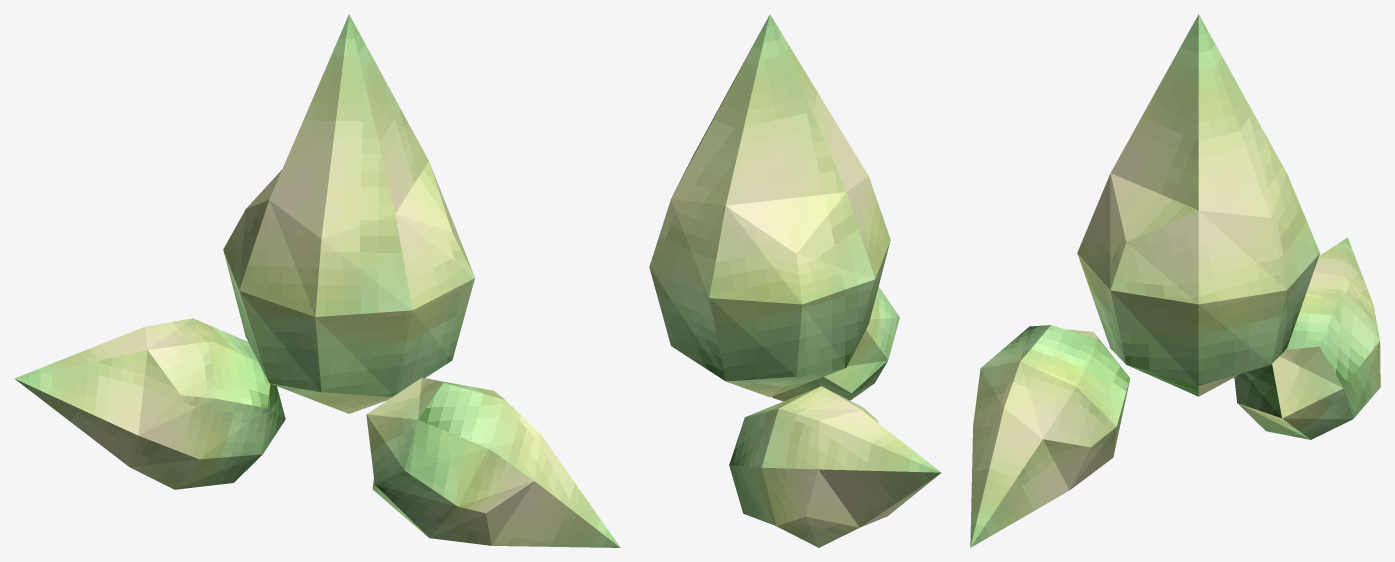
Rendered from NASIONO28.glb.
The picture shows the model from 3 angles, left to right: view 1: azimuth 30°, elevation 25°; view 2: azimuth 150°, elevation 25°; view 3: azimuth 270°, elevation 25°; orthographic projection. The views are drawn at different scales.
Visible parts, largest first — view 1: NASIONO28; view 2: NASIONO28; view 3: NASIONO28.
Part boxes in pixels (x1,y1,x2,y2): NASIONO28: [14, 14, 620, 547]; NASIONO28: [649, 14, 941, 547]; NASIONO28: [970, 14, 1380, 547].
Bounding box in the file's own units: 0.0991 × 0.1119 × 0.0899.
1 material, 1 textured.
